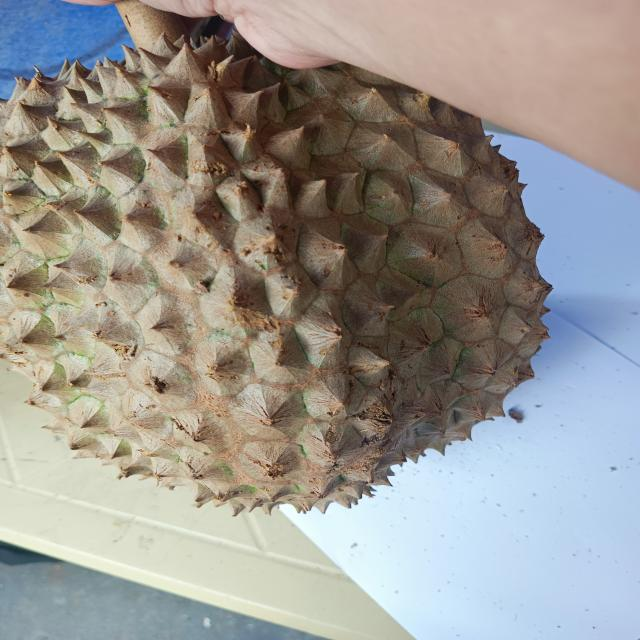mature: (0, 34, 551, 517)
